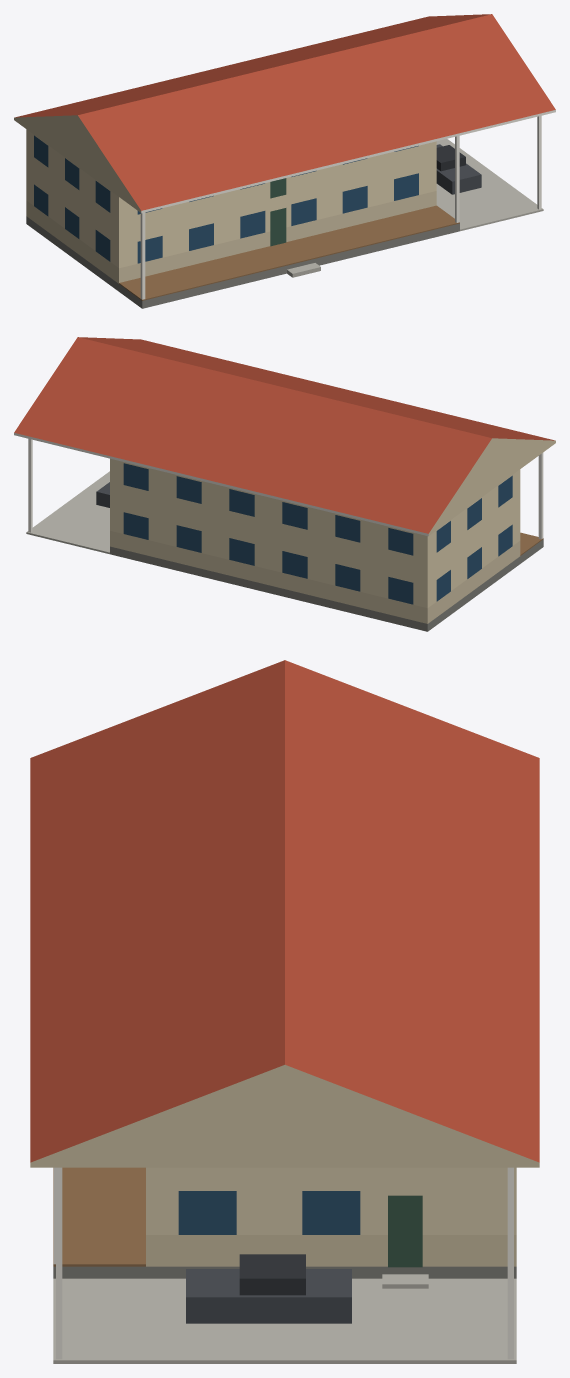
The model's file is house_24x12_2f_lod1.glb.
3 views of the same model, one above another, from view 1: azimuth 30°, elevation 25°; view 2: azimuth 150°, elevation 25°; view 3: azimuth 270°, elevation 25° (orthographic). The views are drawn at different scales.
Visible parts, largest first — view 1: house; view 2: house; view 3: house.
Part boxes in pixels (x1,y1,x2,y2): house: [14, 14, 555, 308]; house: [14, 337, 555, 631]; house: [30, 660, 539, 1363].
Size of the model in its own units: 24.8 by 8.74 by 13.2.
